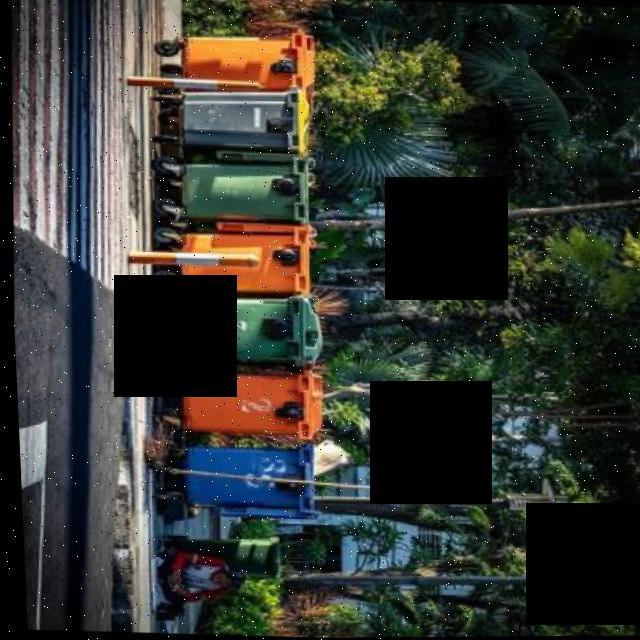bin: (141, 436, 316, 530), (129, 288, 326, 366), (141, 362, 328, 443), (150, 18, 324, 92), (146, 83, 315, 158), (144, 156, 320, 227)
